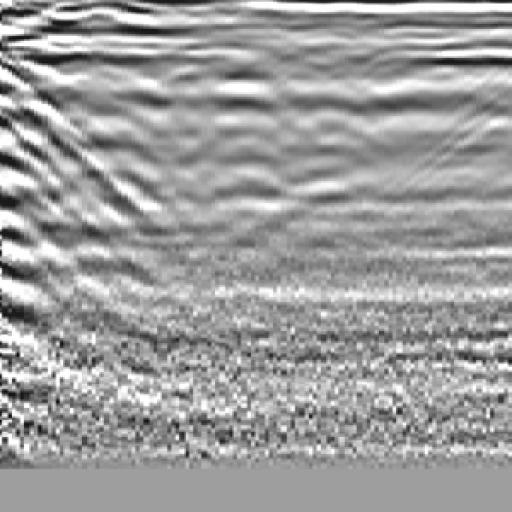metalic: (231, 35, 418, 281)
nonmetalic: (1, 44, 101, 280)
